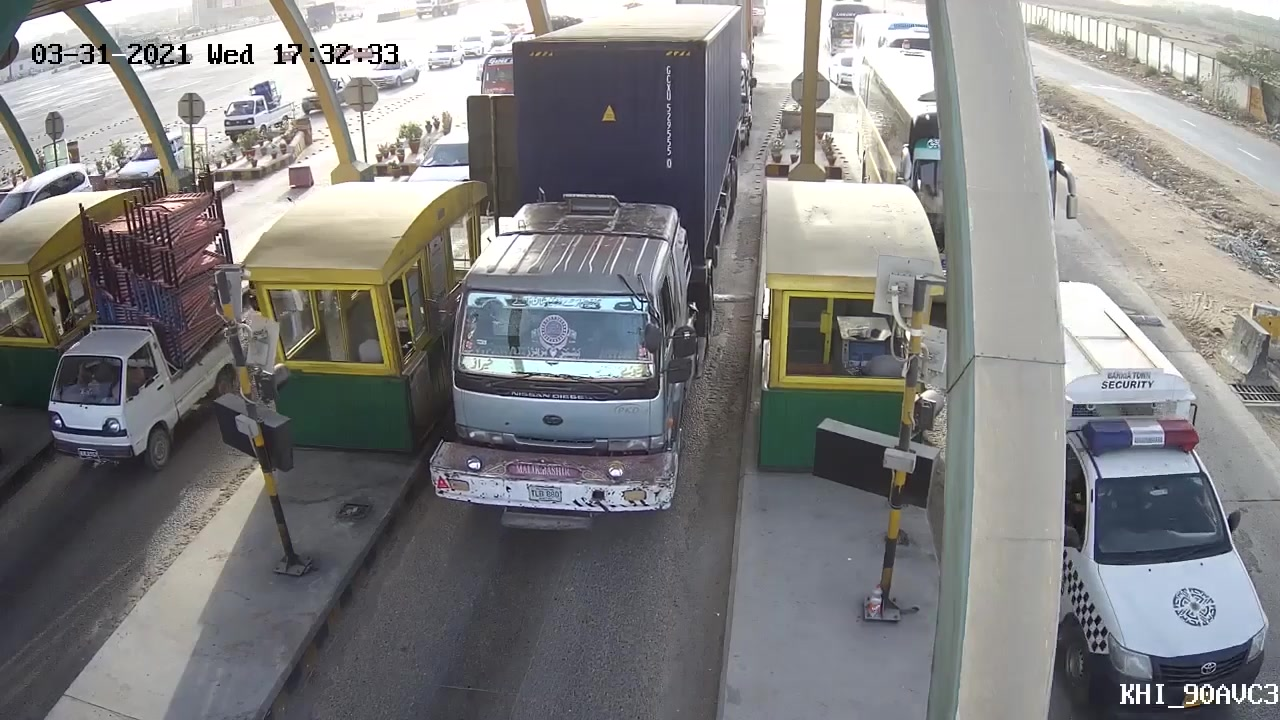F5: (412, 35, 734, 556)
